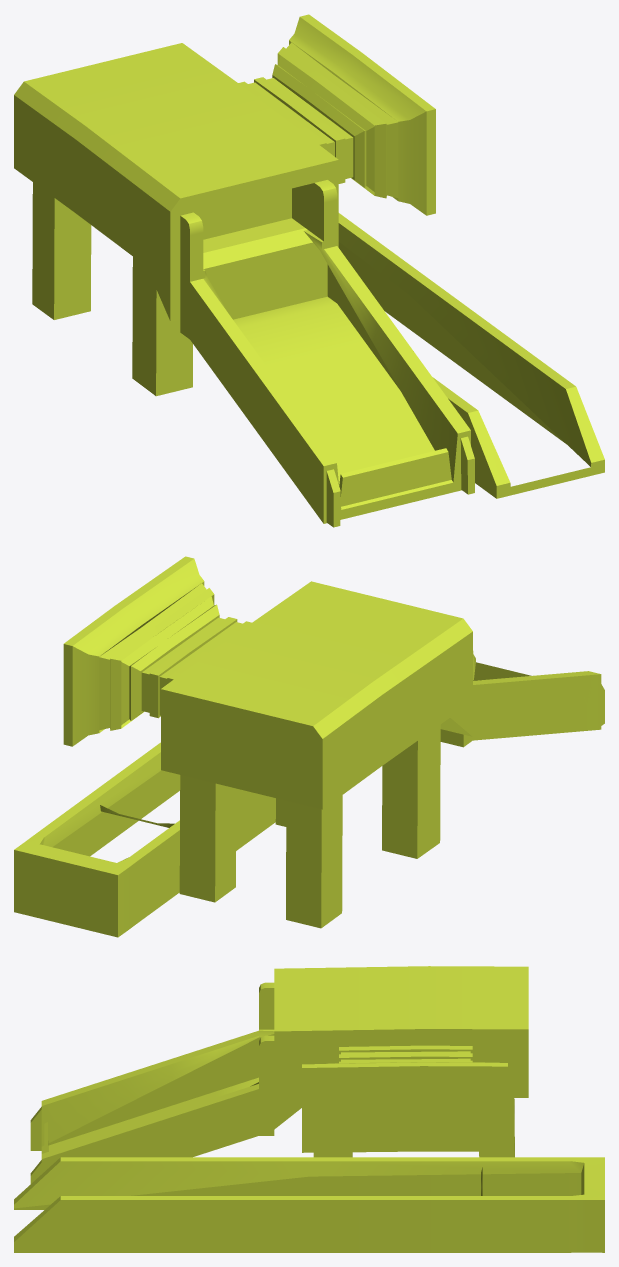
Rendered from FactoryPipeline.fbx.
3 renders of one model, top to bottom at view 1: azimuth 30°, elevation 25°; view 2: azimuth 150°, elevation 25°; view 3: azimuth 270°, elevation 25°, orthographic. The views are drawn at different scales.
Parts seen in each view (by area): view 1: FactoryPipeline; view 2: FactoryPipeline; view 3: FactoryPipeline.
Part boxes in pixels (x1,y1,x2,y2): FactoryPipeline: [14, 14, 604, 527]; FactoryPipeline: [14, 556, 604, 937]; FactoryPipeline: [14, 966, 604, 1252].
Size of the model in its own units: 137 by 108 by 306.
